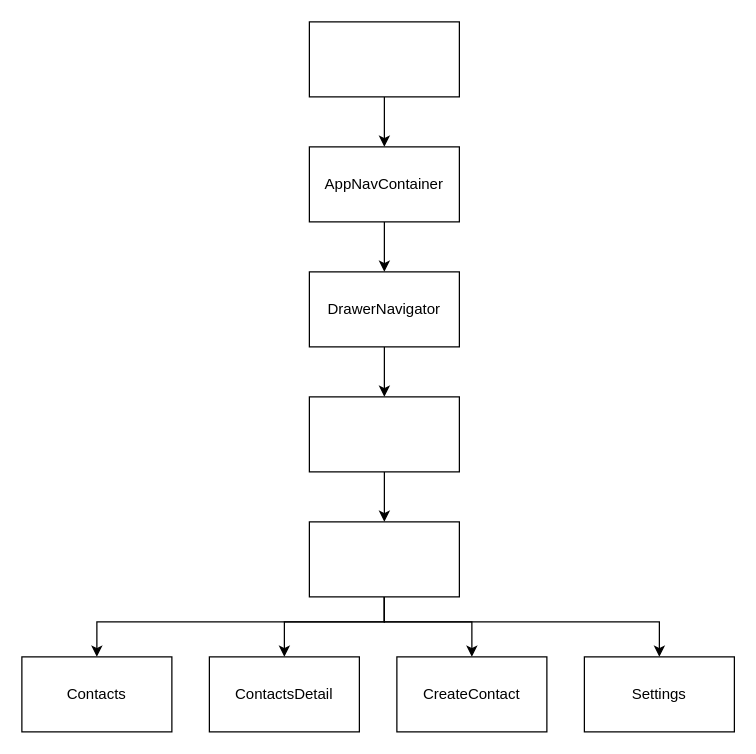
Image size: 756x754. Some labels were removed from this diagram. Each missing label, with the centre of its shape:
"App" belongs at pixel 383 59.
"Drawer.Screen" belongs at pixel 383 434.
"HomeNavigator" belongs at pixel 383 559.
